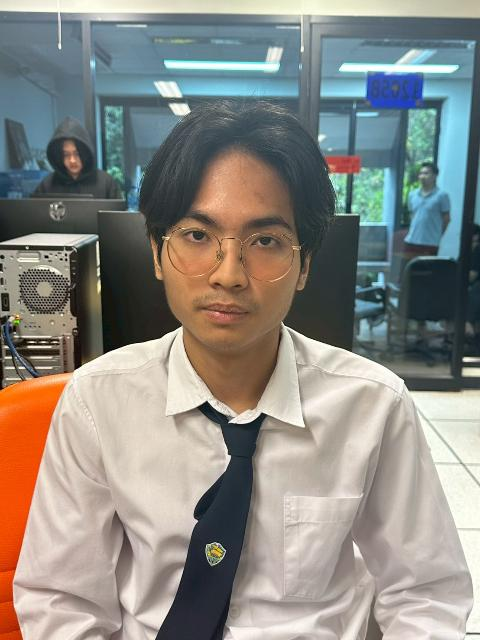fokus: (156, 113, 308, 343)
